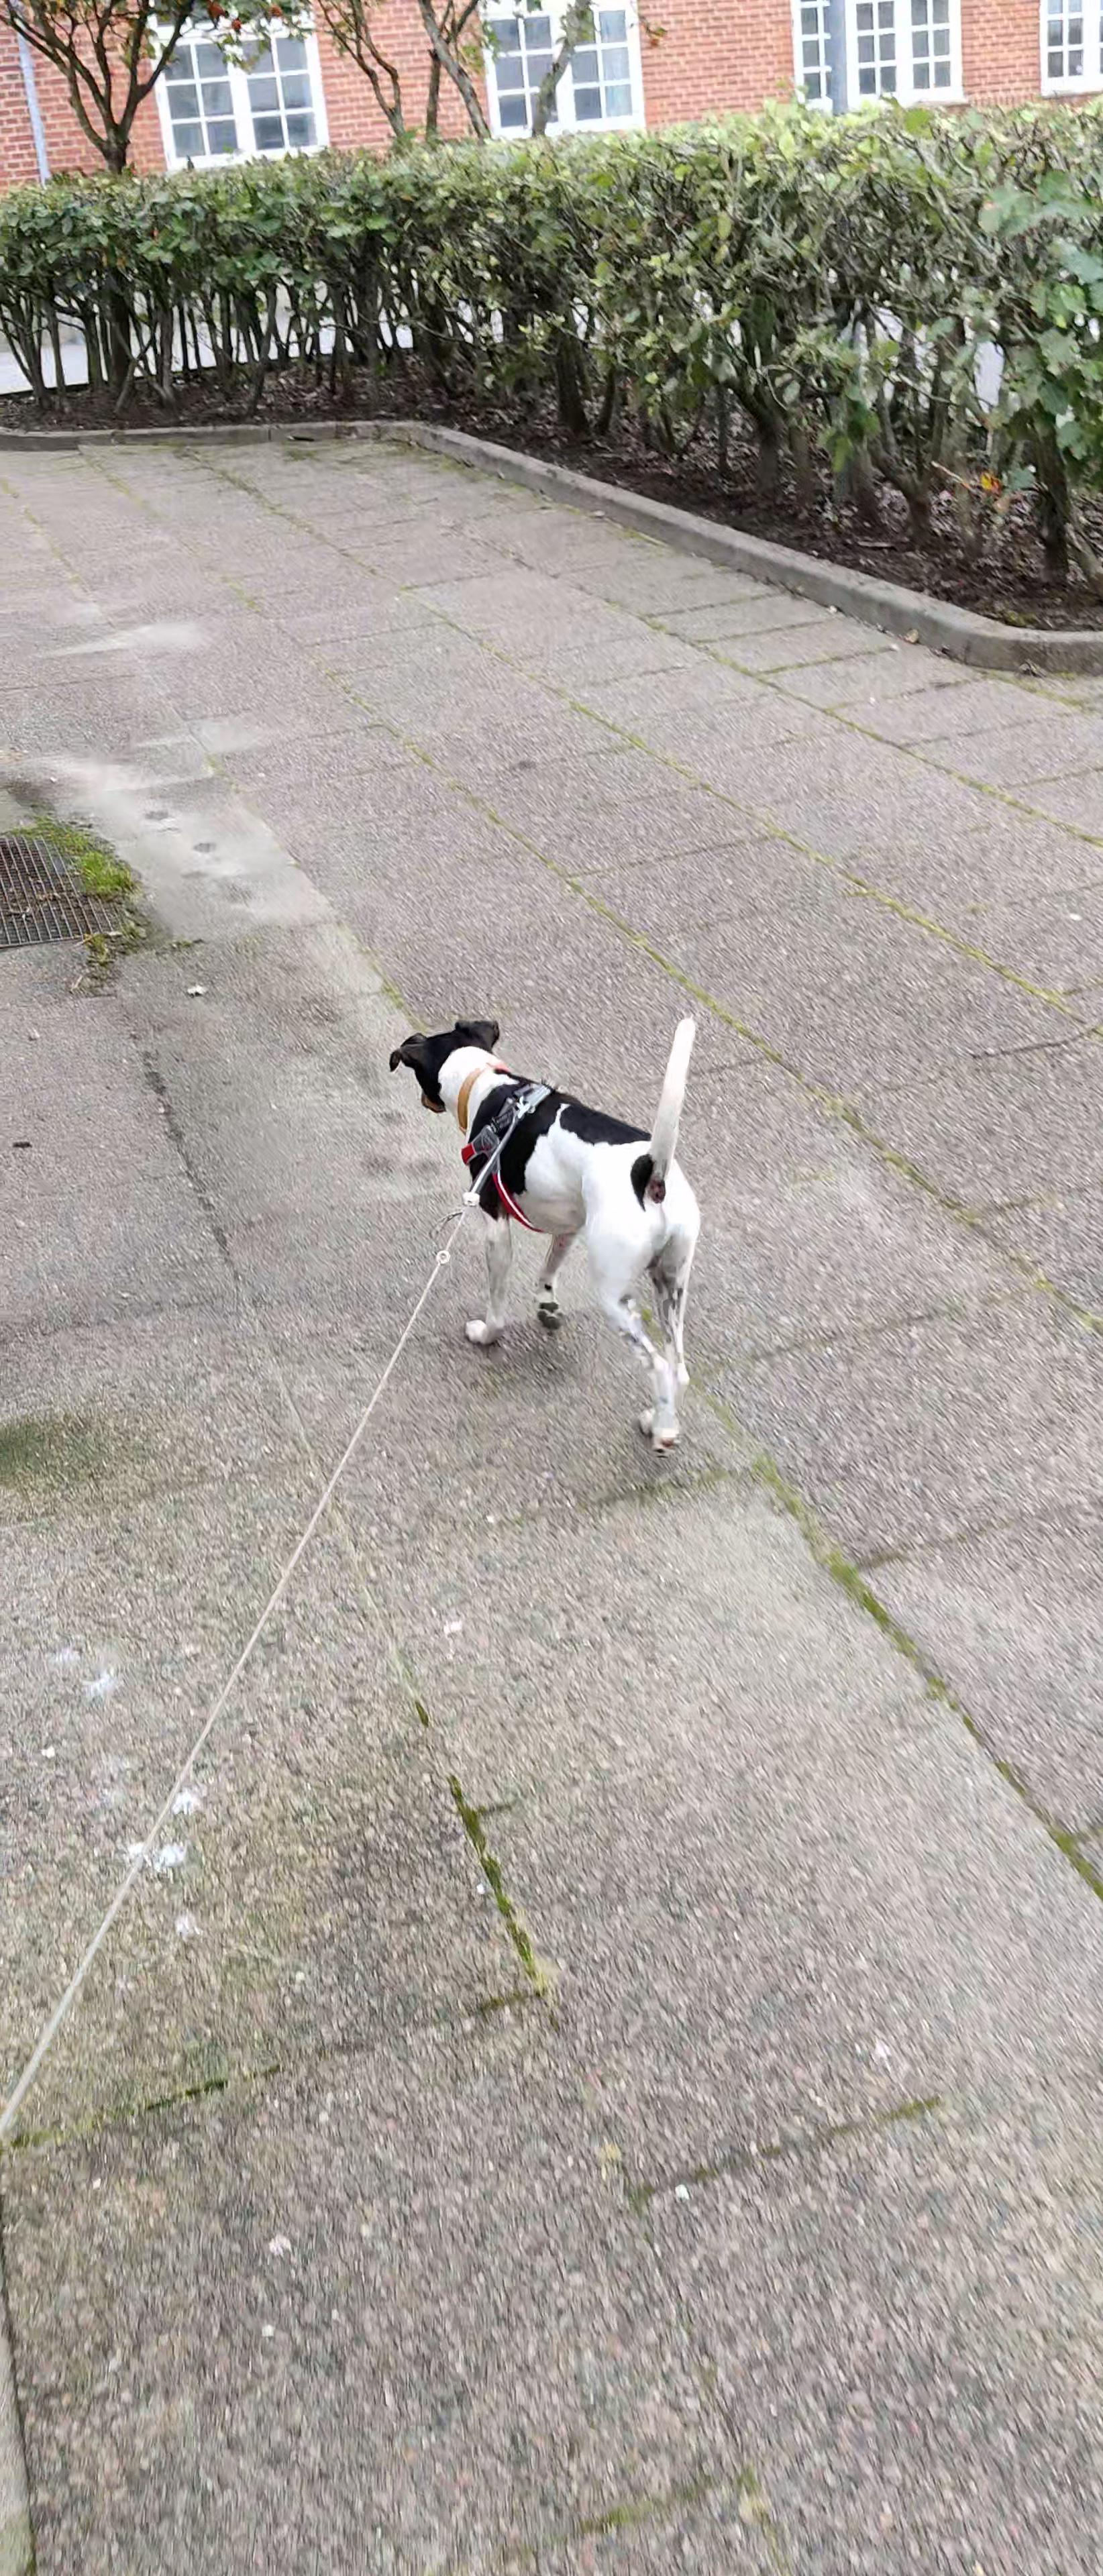Dog: (381, 1002, 727, 1460)
